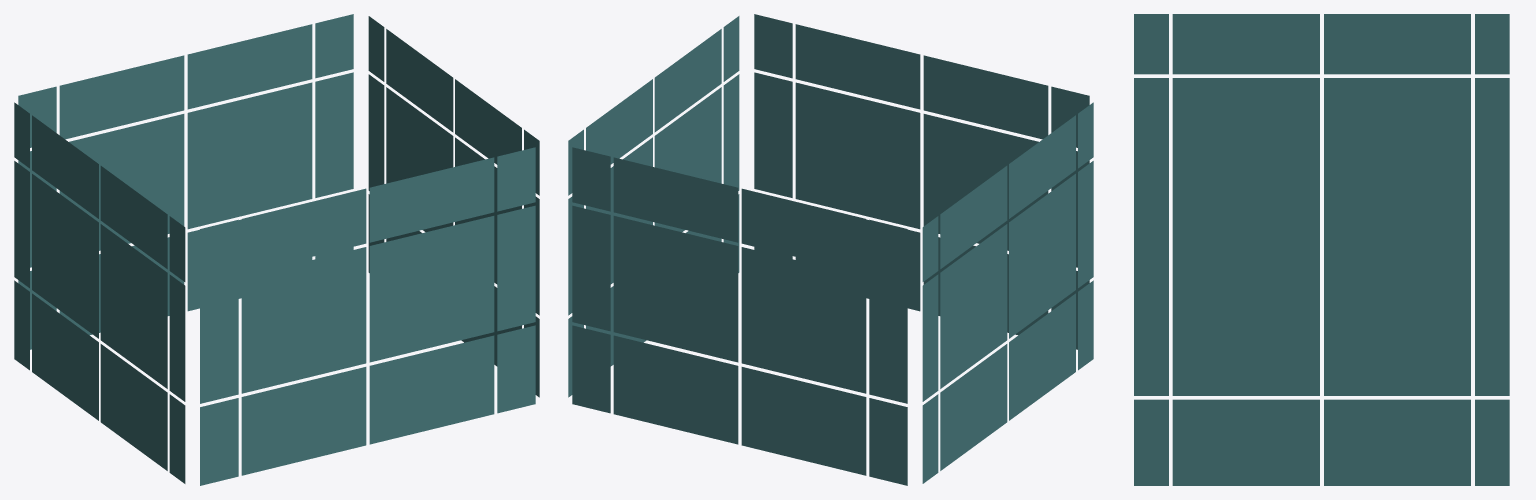
The model's file is SW_ENV_Elevator_Shaft_Street_Interfloor_Glass.fbx.
3 views of the same model, side by side, from view 1: azimuth 30°, elevation 25°; view 2: azimuth 150°, elevation 25°; view 3: azimuth 270°, elevation 25° (orthographic). The views are drawn at different scales.
Visible parts, largest first — view 1: SW_ENV_Elevator_Shaft_Street_Interfloor_Glass; view 2: SW_ENV_Elevator_Shaft_Street_Interfloor_Glass; view 3: SW_ENV_Elevator_Shaft_Street_Interfloor_Glass.
Part boxes in pixels (x1=…): SW_ENV_Elevator_Shaft_Street_Interfloor_Glass: x1=14, y1=14, x2=539, y2=485; SW_ENV_Elevator_Shaft_Street_Interfloor_Glass: x1=568, y1=14, x2=1093, y2=485; SW_ENV_Elevator_Shaft_Street_Interfloor_Glass: x1=1134, y1=14, x2=1509, y2=485.
Size of the model in its own units: 452 by 313 by 402.
